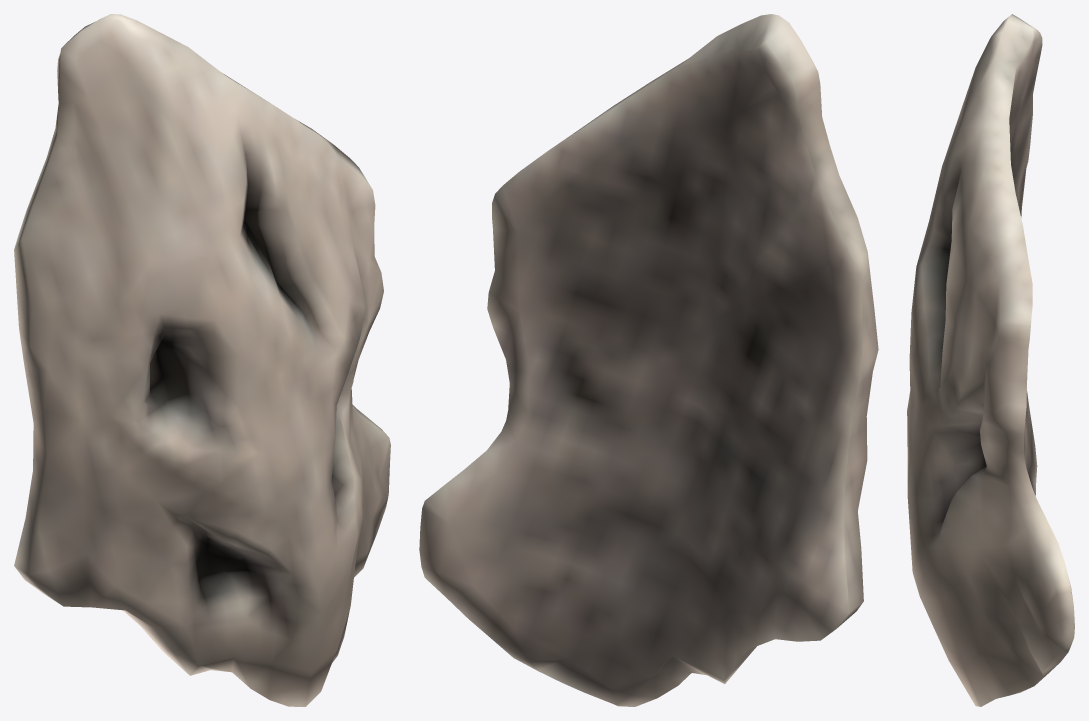
File: CorruptVillagerMask_03.fbx
The picture shows the model from 3 angles, left to right: view 1: azimuth 30°, elevation 25°; view 2: azimuth 150°, elevation 25°; view 3: azimuth 270°, elevation 25°; orthographic projection. The views are drawn at different scales.
Visible parts, largest first — view 1: SM_CorruptVillager_Mask_03.mo; view 2: SM_CorruptVillager_Mask_03.mo; view 3: SM_CorruptVillager_Mask_03.mo.
Part boxes in pixels (bbox=[...]): SM_CorruptVillager_Mask_03.mo: bbox=[14, 14, 390, 706]; SM_CorruptVillager_Mask_03.mo: bbox=[419, 14, 878, 706]; SM_CorruptVillager_Mask_03.mo: bbox=[907, 14, 1074, 706].
Size of the model in its own units: 20.85 by 36.26 by 8.93.
Materials: 1 (1 with a texture image).
